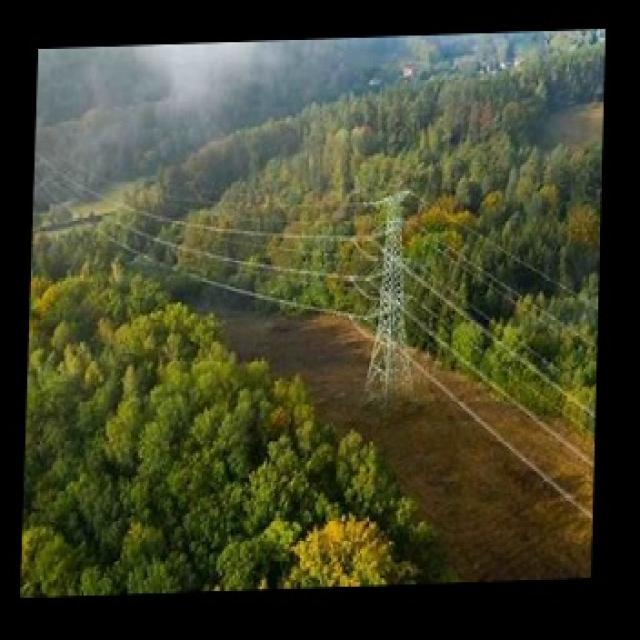utility poles: (358, 184, 426, 408)
